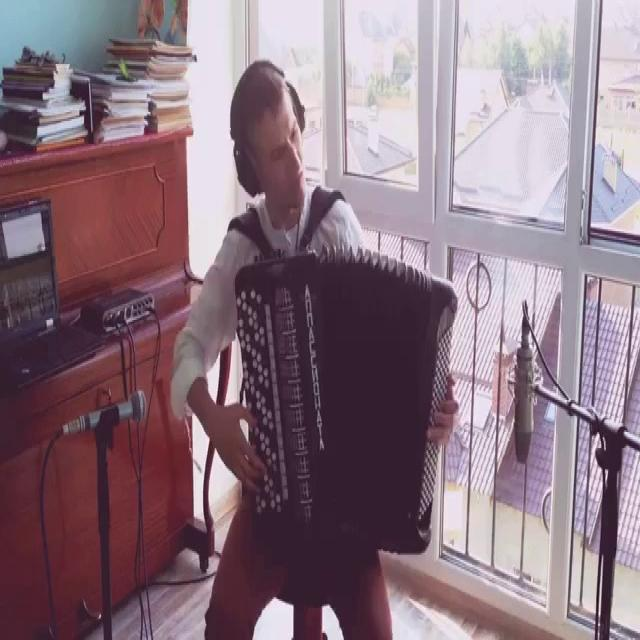Violin: (232, 251, 450, 553)
